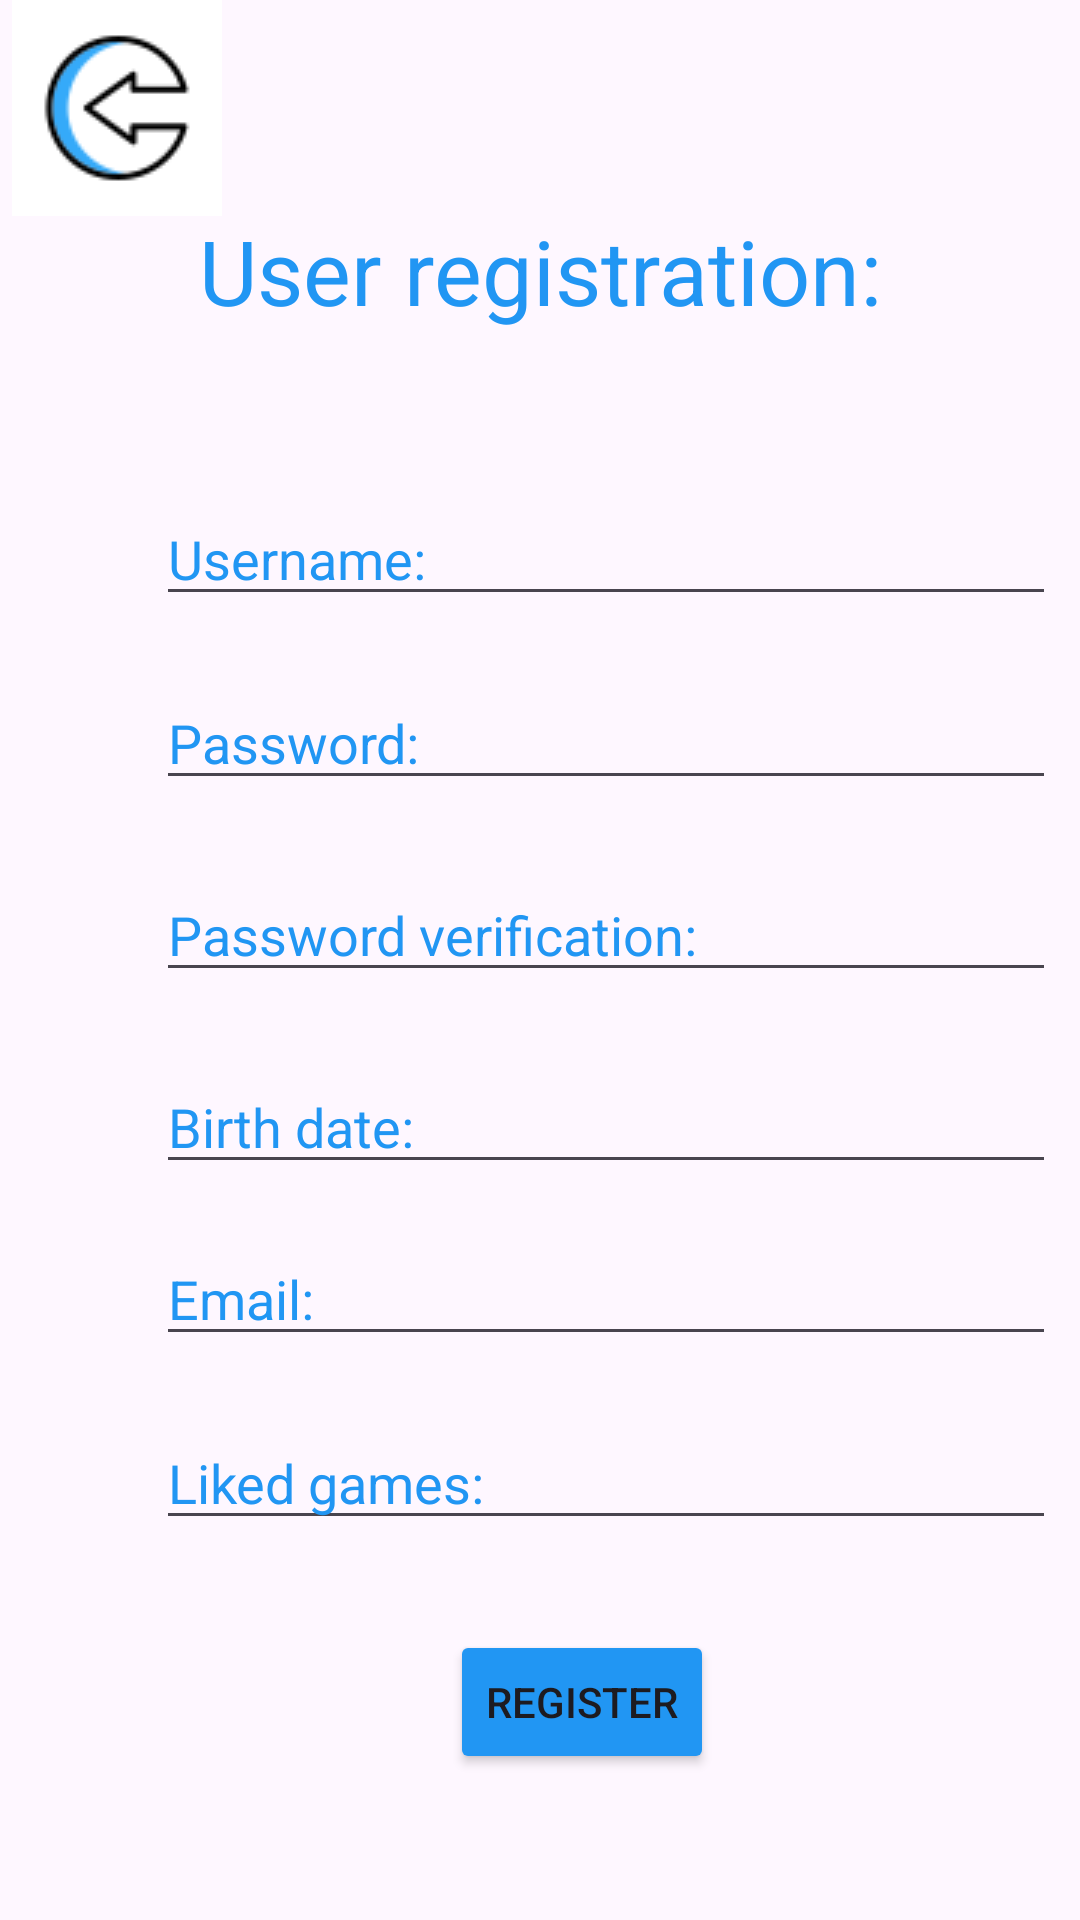

Screen size 1080x1920. Icon name, then its box in pixels as (x1, y1, x2, y2):
backarrow: (44, 35, 190, 181)
